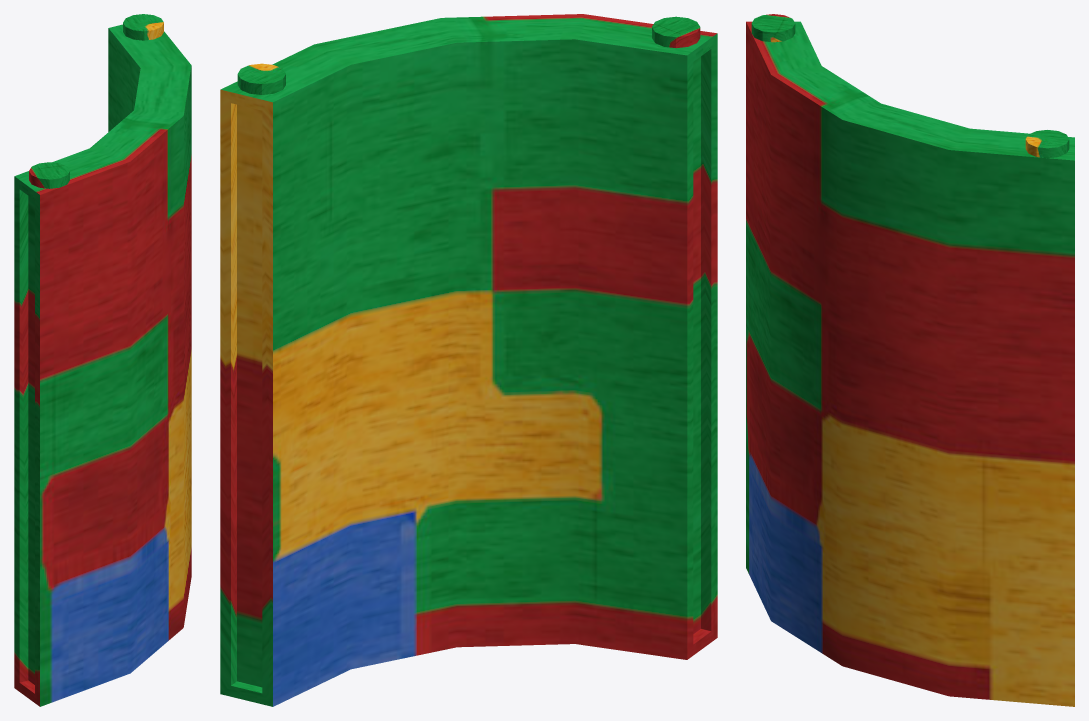
The model's file is CylinderQuarter_7x7.fbx.
3 renders of one model, left to right at view 1: azimuth 30°, elevation 25°; view 2: azimuth 150°, elevation 25°; view 3: azimuth 270°, elevation 25°, orthographic. The views are drawn at different scales.
Parts seen in each view (by area): view 1: CylinderQuarter_7x7; view 2: CylinderQuarter_7x7; view 3: CylinderQuarter_7x7.
Part boxes in pixels (<box>): CylinderQuarter_7x7: <box>14,14,191,706</box>; CylinderQuarter_7x7: <box>220,14,717,706</box>; CylinderQuarter_7x7: <box>746,14,1074,706</box>.
Size of the model in its own units: 120 by 224 by 120.
